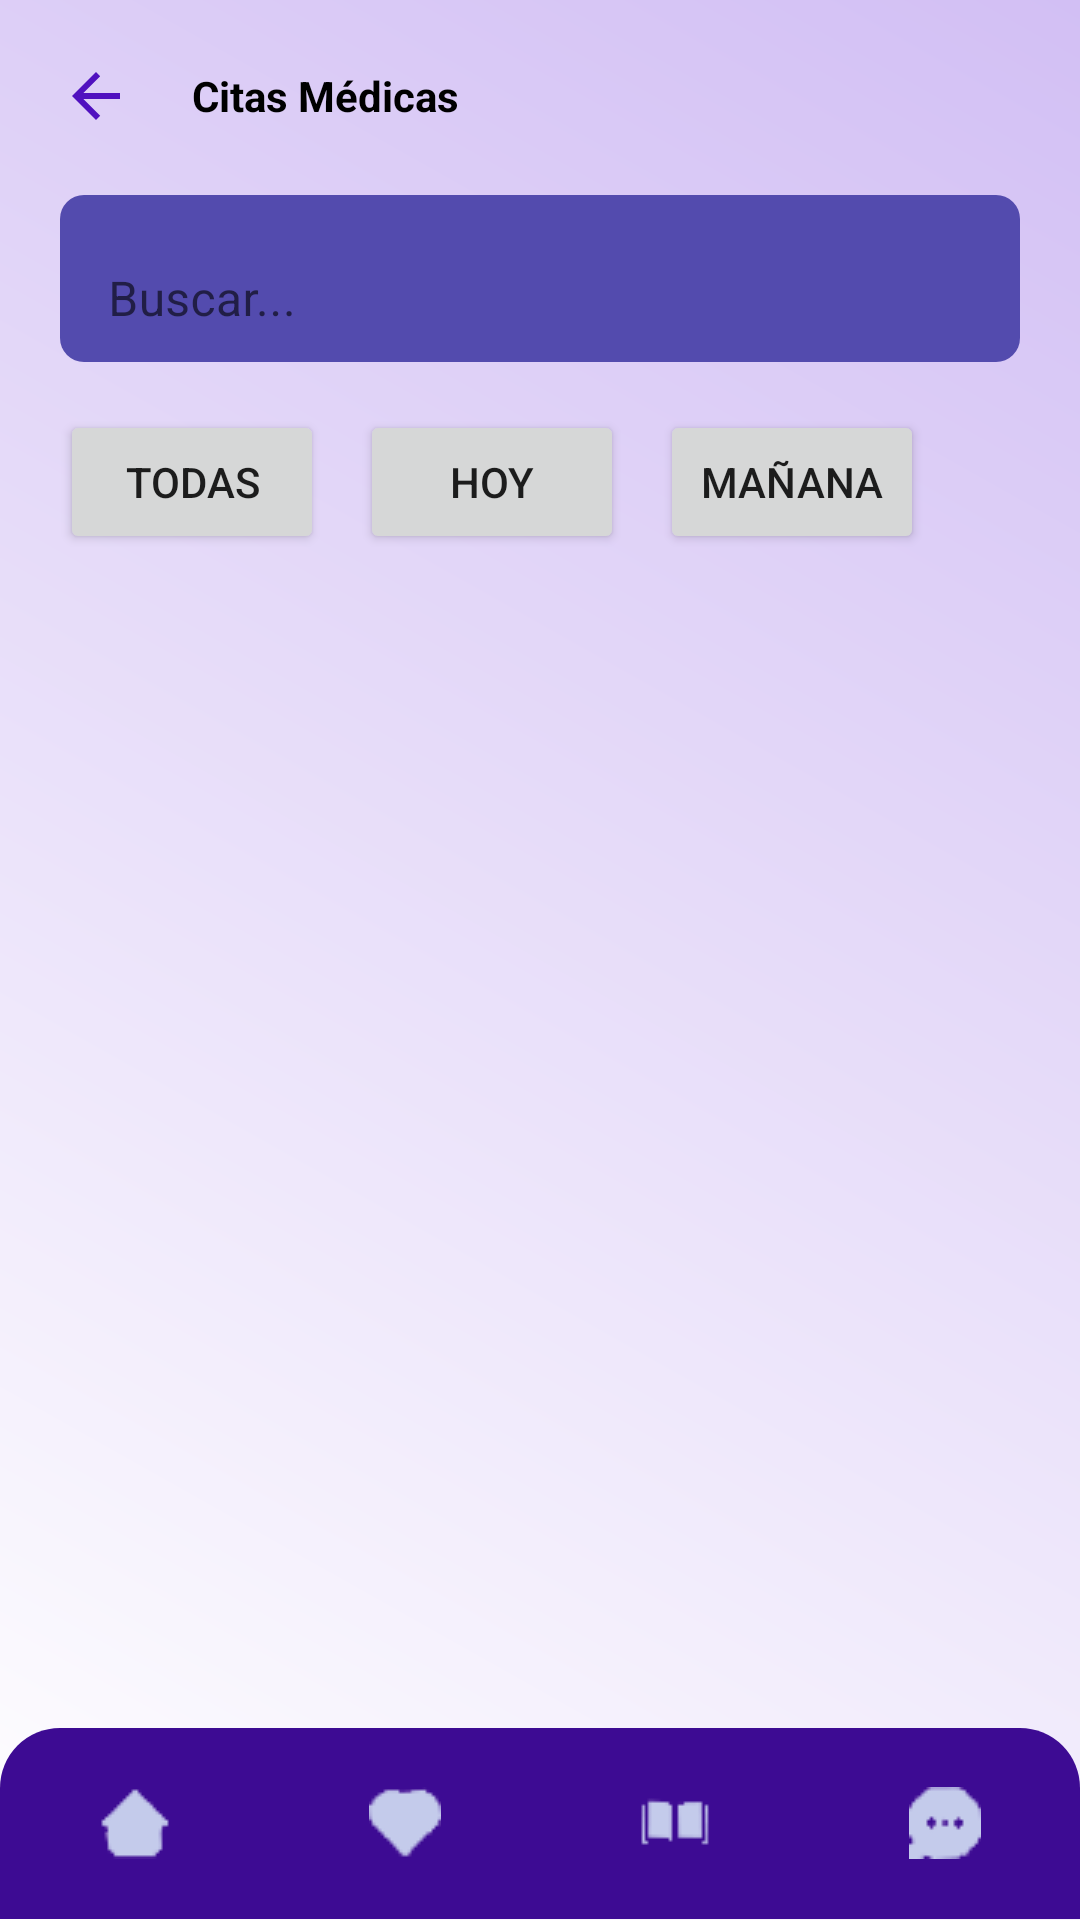

Icon bounding boxes for this 1080 × 1920 phone screenshot, format region(x1, y1, x2, y2):
book: region(641, 1800, 709, 1845)
home: region(101, 1789, 169, 1857)
love: region(369, 1789, 441, 1857)
messenger: region(909, 1787, 981, 1859)
